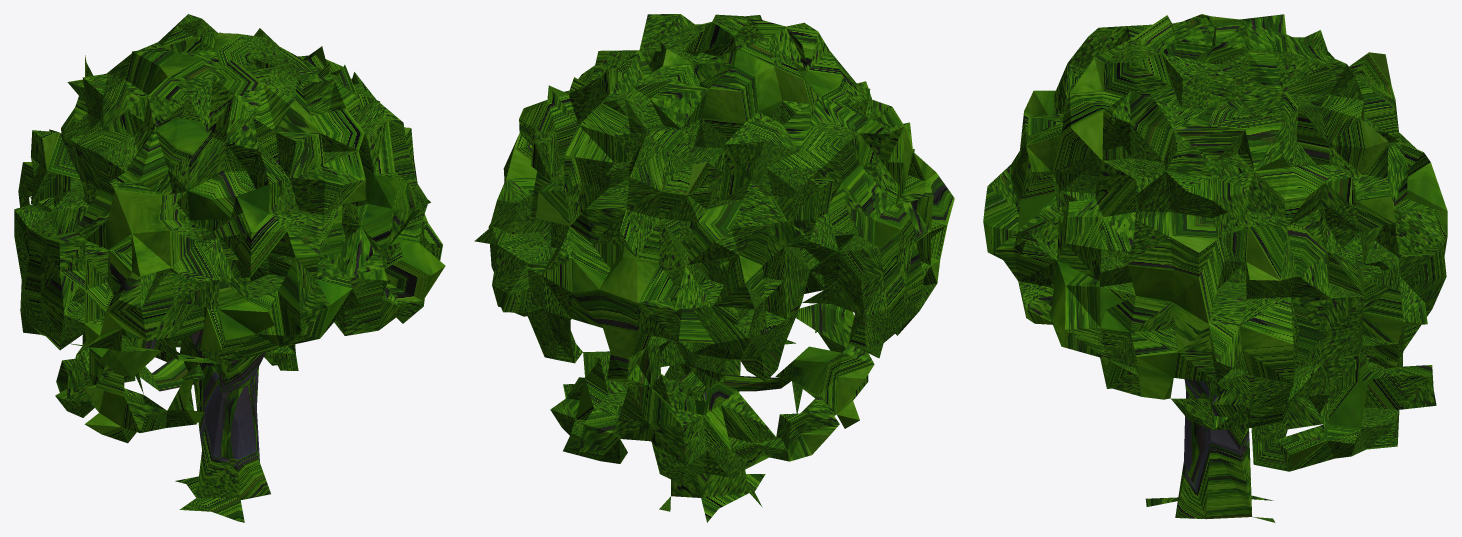
The model's file is oak_lo.glb.
3 views of the same model, side by side, from view 1: azimuth 30°, elevation 25°; view 2: azimuth 150°, elevation 25°; view 3: azimuth 270°, elevation 25° (orthographic). The views are drawn at different scales.
Visible parts, largest first — view 1: textured_mesh.obj; view 2: textured_mesh.obj; view 3: textured_mesh.obj.
Part boxes in pixels (x1,y1,x2,y2): textured_mesh.obj: [14, 14, 445, 522]; textured_mesh.obj: [474, 14, 954, 522]; textured_mesh.obj: [983, 14, 1447, 522].
Bounding box in the file's own units: 1.79 × 1.98 × 1.7.
1 material, 1 textured.
